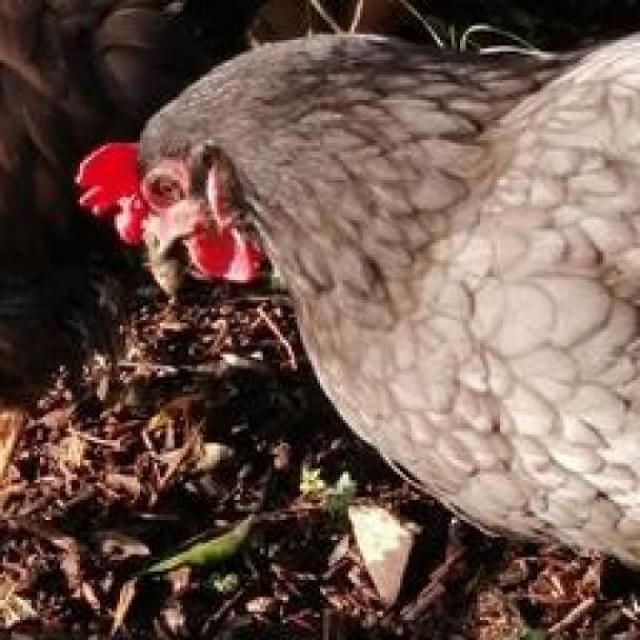Chicken: (66, 19, 640, 559)
